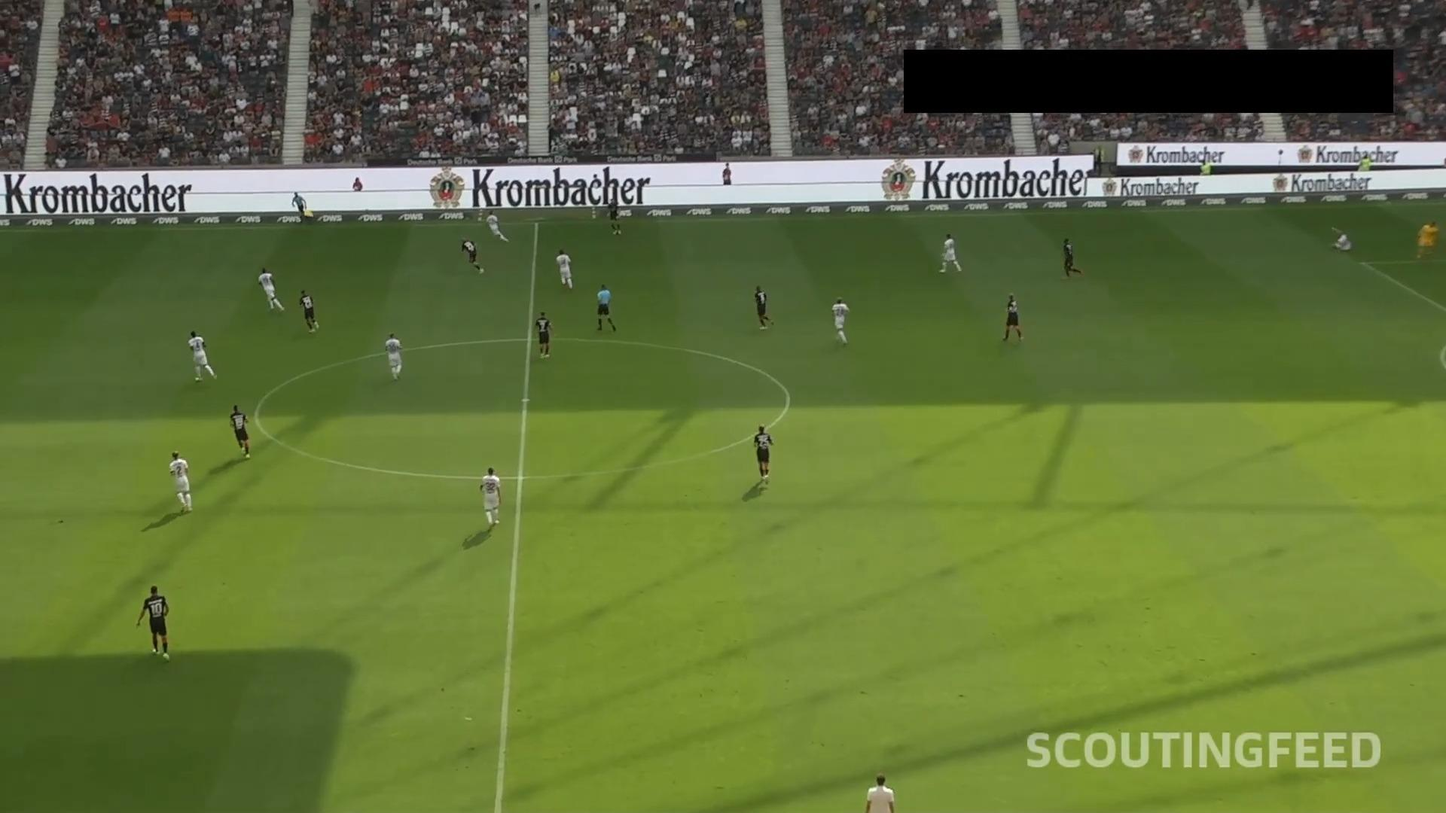goalkeeper: (1414, 218, 1443, 263)
player: (139, 583, 172, 664), (166, 450, 195, 514), (477, 466, 505, 532), (186, 328, 218, 385), (227, 403, 252, 461), (257, 264, 285, 315), (1000, 292, 1026, 346), (754, 425, 776, 485), (383, 332, 409, 382), (532, 309, 555, 360), (829, 297, 851, 348), (1060, 239, 1085, 283), (752, 286, 775, 333), (297, 290, 320, 334), (938, 231, 961, 275), (459, 240, 486, 276), (554, 248, 575, 292), (602, 199, 623, 239), (486, 210, 508, 245), (1329, 227, 1351, 254)
referee: (596, 281, 616, 334), (288, 190, 314, 223)
